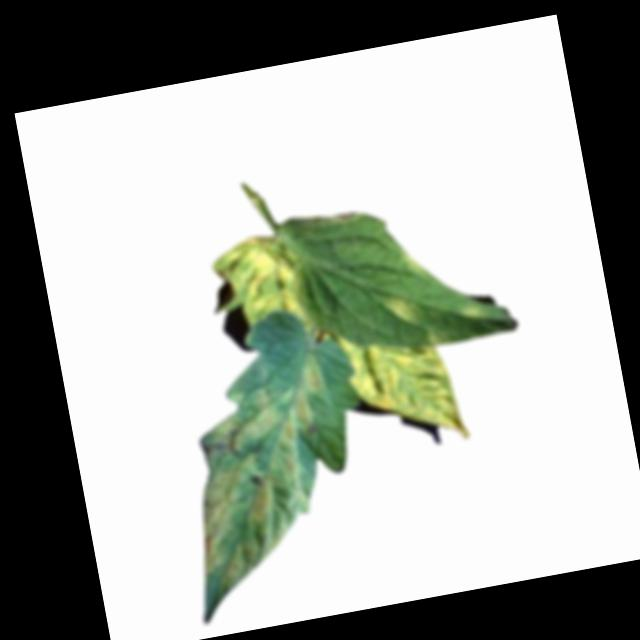Leaf_Mold: (172, 348, 357, 591), (338, 316, 471, 457), (210, 229, 313, 340), (397, 244, 435, 285), (378, 291, 415, 331), (453, 299, 489, 330)
